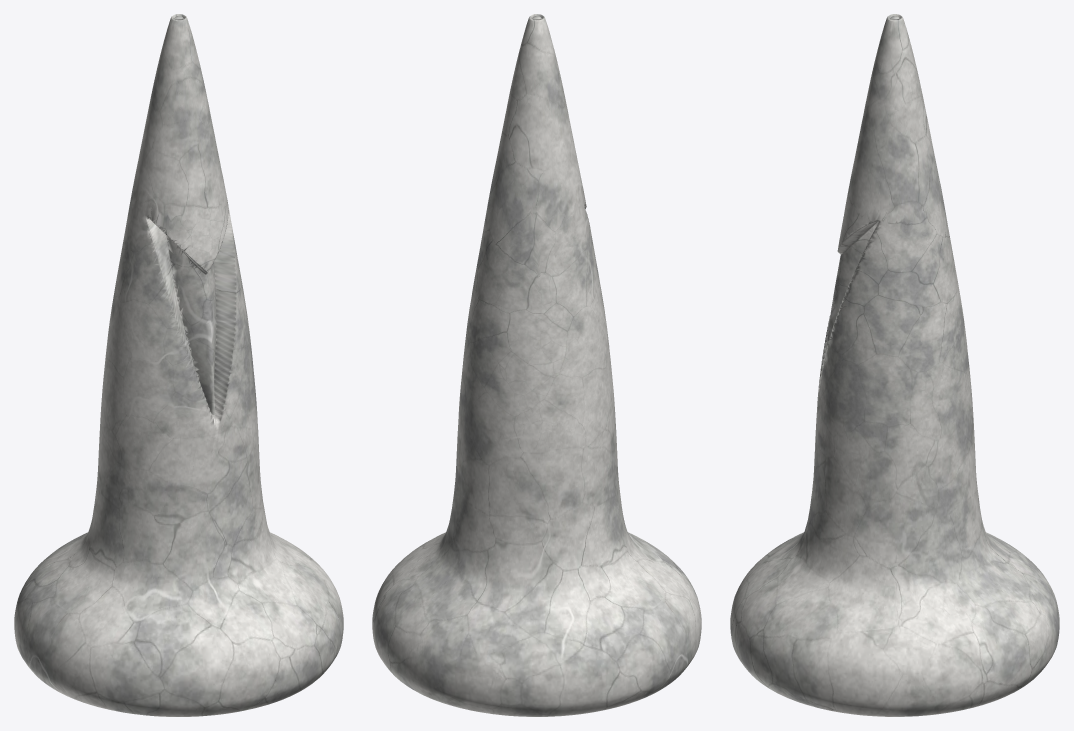
Rendered from king-white-hd.glb.
The picture shows the model from 3 angles, left to right: view 1: azimuth 30°, elevation 25°; view 2: azimuth 150°, elevation 25°; view 3: azimuth 270°, elevation 25°; orthographic projection.
Visible parts, largest first — view 1: Serpentina_king_white; view 2: Serpentina_king_white; view 3: Serpentina_king_white.
Boxes of the visible parts, x1,y1,x2,y2 form: Serpentina_king_white: (14,14,343,716); Serpentina_king_white: (372,14,701,716); Serpentina_king_white: (730,14,1059,716).
Bounding box in the file's own units: 0.7729 × 1.65 × 0.7729.
1 material, 1 textured.
